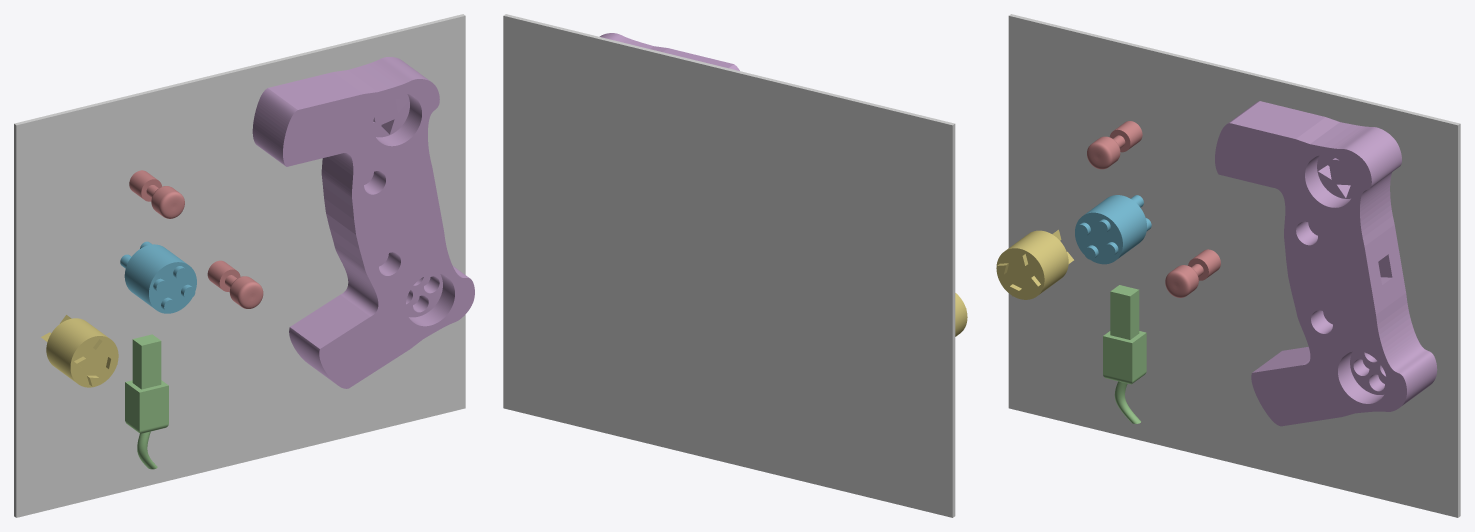
The model's file is pickup_layout.glb.
3 renders of one model, left to right at view 1: azimuth 30°, elevation 25°; view 2: azimuth 150°, elevation 25°; view 3: azimuth 330°, elevation 25°, orthographic.
Visible parts, largest first — view 1: world, 3.obj, 4.obj, 2.obj, 1.obj, 5.obj, 0.obj; view 2: world, 3.obj; view 3: world, 3.obj, 4.obj, 2.obj, 1.obj, 5.obj, 0.obj.
Part boxes in pixels (x1,y1,x2,y2): world: (14,14,465,517); 3.obj: (252,57,474,388); 4.obj: (125,334,168,469); 2.obj: (120,241,196,313); 1.obj: (41,315,118,387); 5.obj: (129,170,184,218); 0.obj: (207,260,263,308); world: (503,14,955,517); 3.obj: (599,33,739,70); world: (1008,14,1460,517); 3.obj: (1215,101,1437,426); 4.obj: (1103,285,1146,423); 2.obj: (1075,195,1151,264); 1.obj: (996,229,1073,299); 5.obj: (1087,121,1142,169); 0.obj: (1165,249,1220,297).
Bounding box in the file's own units: 21.49 × 17.95 × 3.2.
